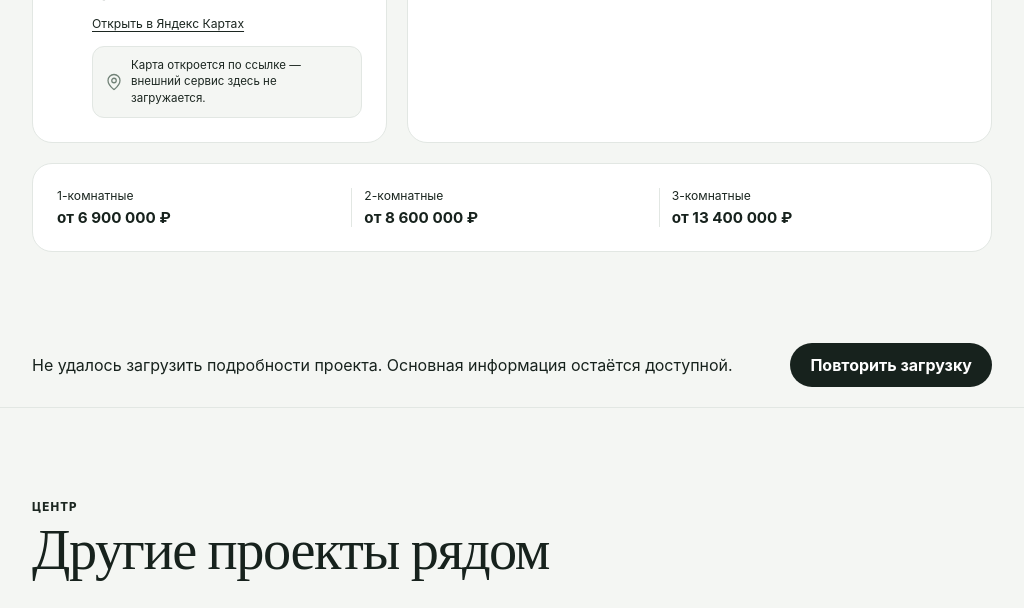
Test case: ProjectPage detail loading state › catches a detail failure and retries without hiding the summary
The image size is (1024, 608).
(page scrolled)
Expected: the message named "Ошибка загрузки подробностей проекта" shows "Не удалось загрузить подробности проекта", 32,355 -> 733,375
Click the button "Повторить загрузку" at (891, 365), box 790,343 -> 992,387
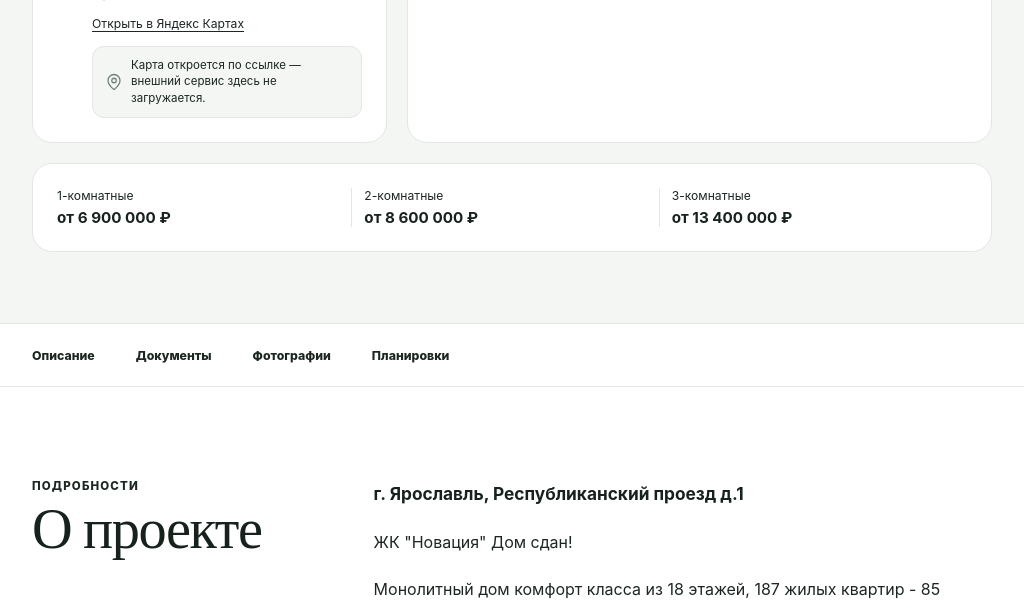
Now the heading "О проекте" is shown, box 32,505 -> 292,557
